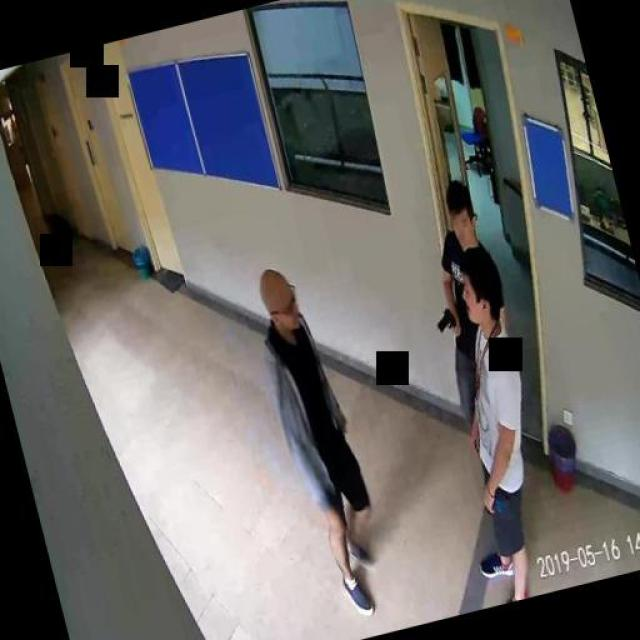gun: (432, 305, 458, 339)
